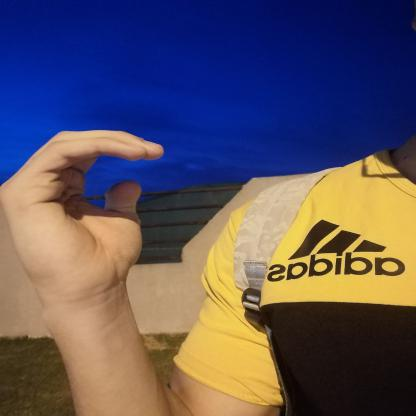JEEM: (0, 120, 178, 310)
